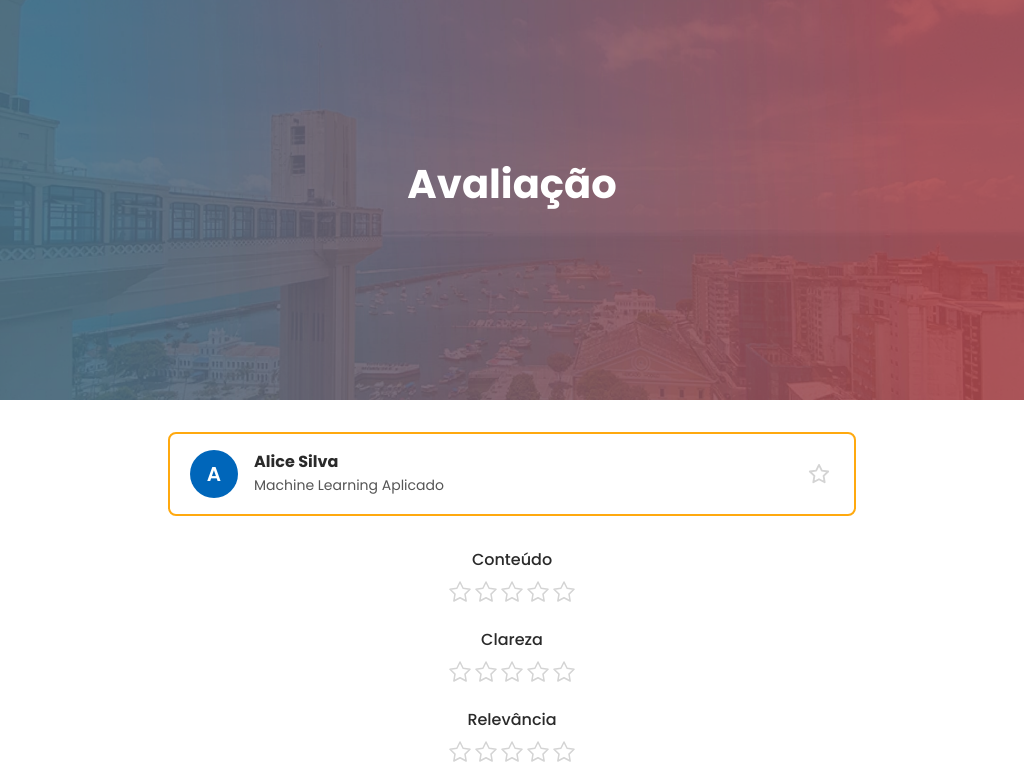
Scenario: AvaliacaoFormPage › shows error modal on partial failure with retry
Check: the text "Conteúdo" is shown, box [472, 548, 552, 572]
Click the button named "5 estrelas" below "Conteúdo".
click(564, 592)  # box [552, 580, 576, 604]
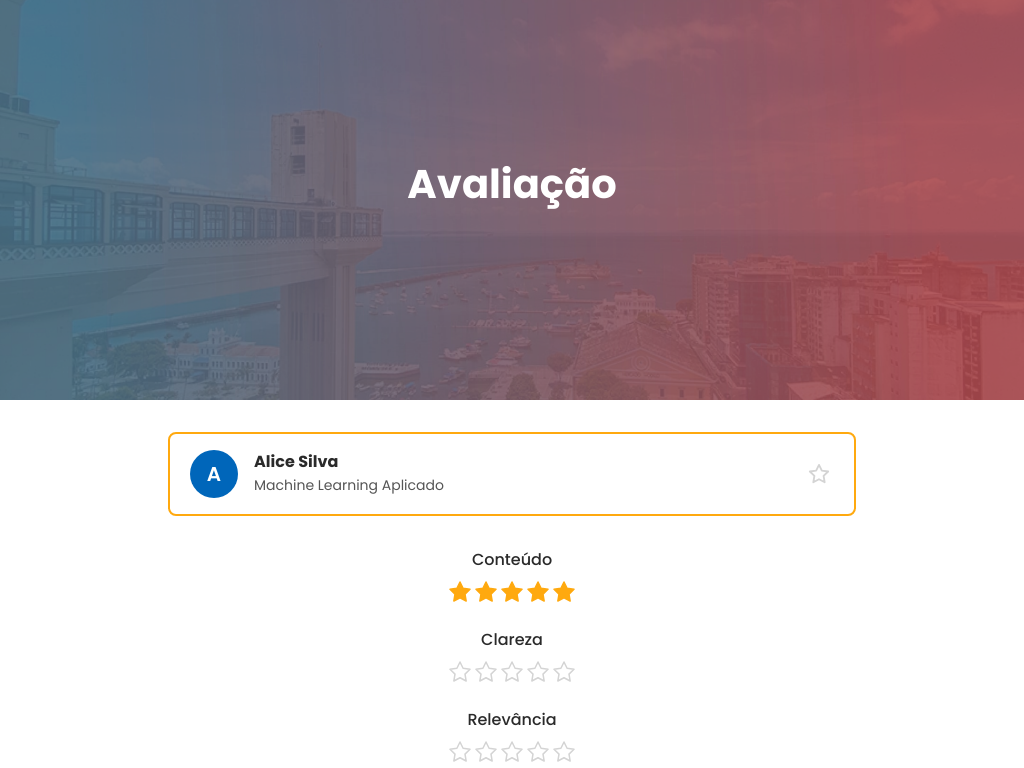
Click the button named "5 estrelas" below "Clareza".
click(564, 672)  # box [552, 660, 576, 684]
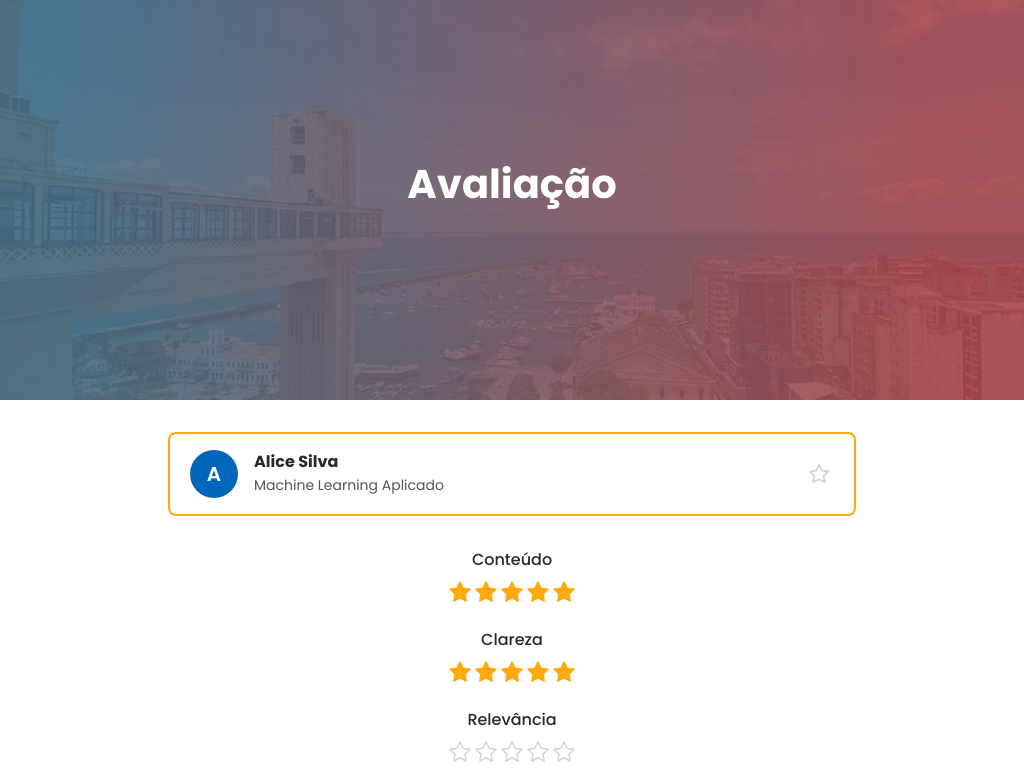
Click the button named "5 estrelas" below "Relevância".
click(564, 752)  # box [552, 740, 576, 764]
(page scrolled)
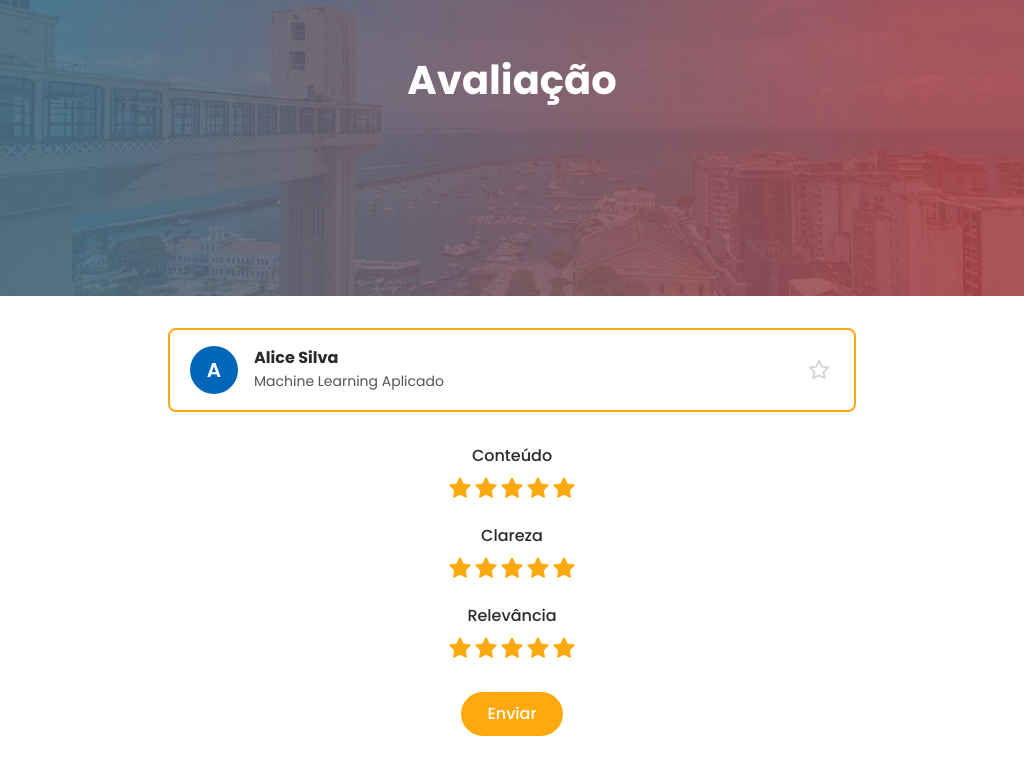
Click the button "Enviar".
click(512, 714)  # box [461, 692, 563, 736]
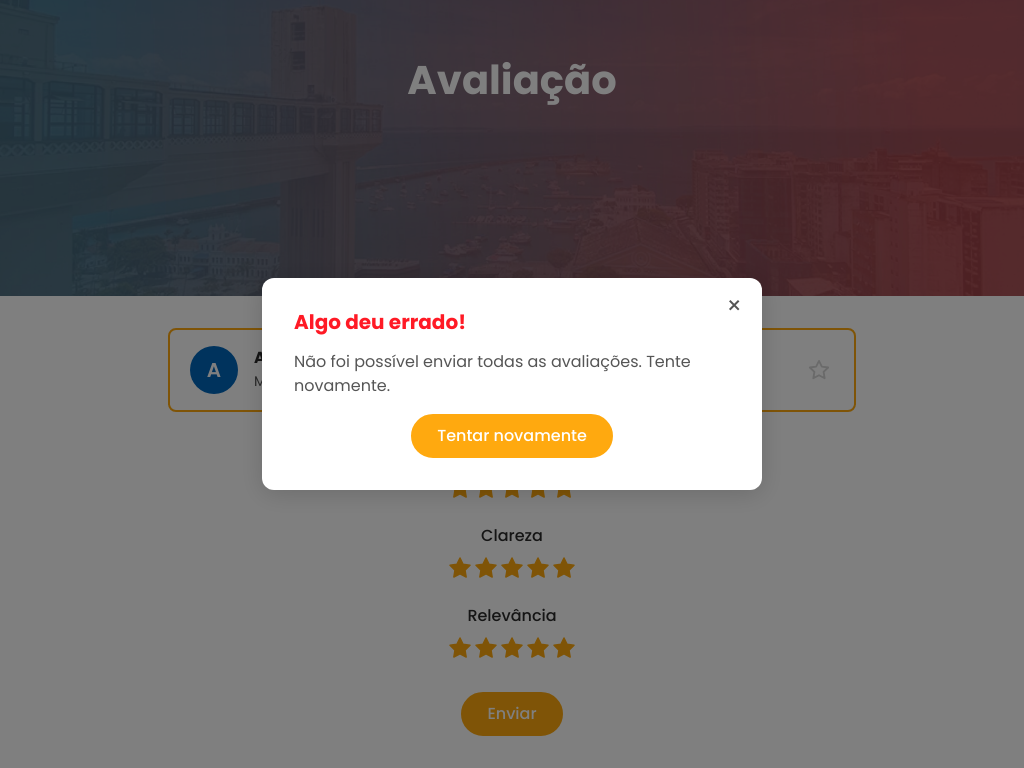
Check: the heading "Algo deu errado!" is shown, box [294, 308, 466, 336]
Check: the button "Tentar novamente" is shown, box [411, 414, 613, 458]
